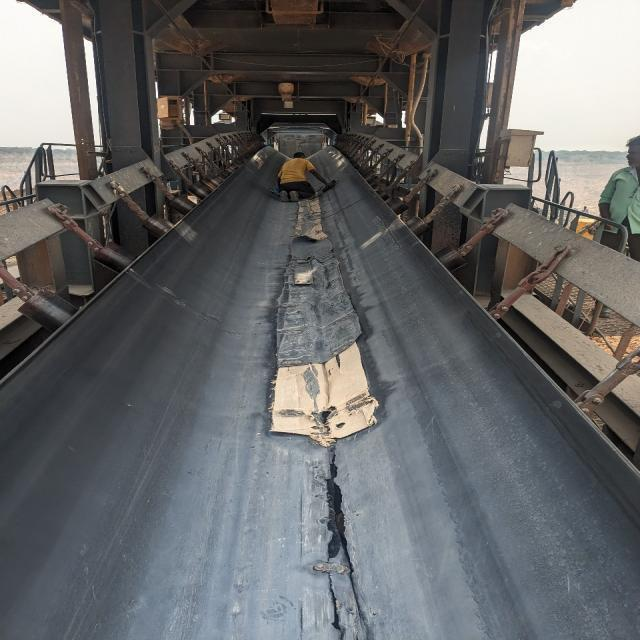Hole: (325, 457, 350, 558), (312, 404, 340, 431)
Tear: (330, 571, 341, 639)
